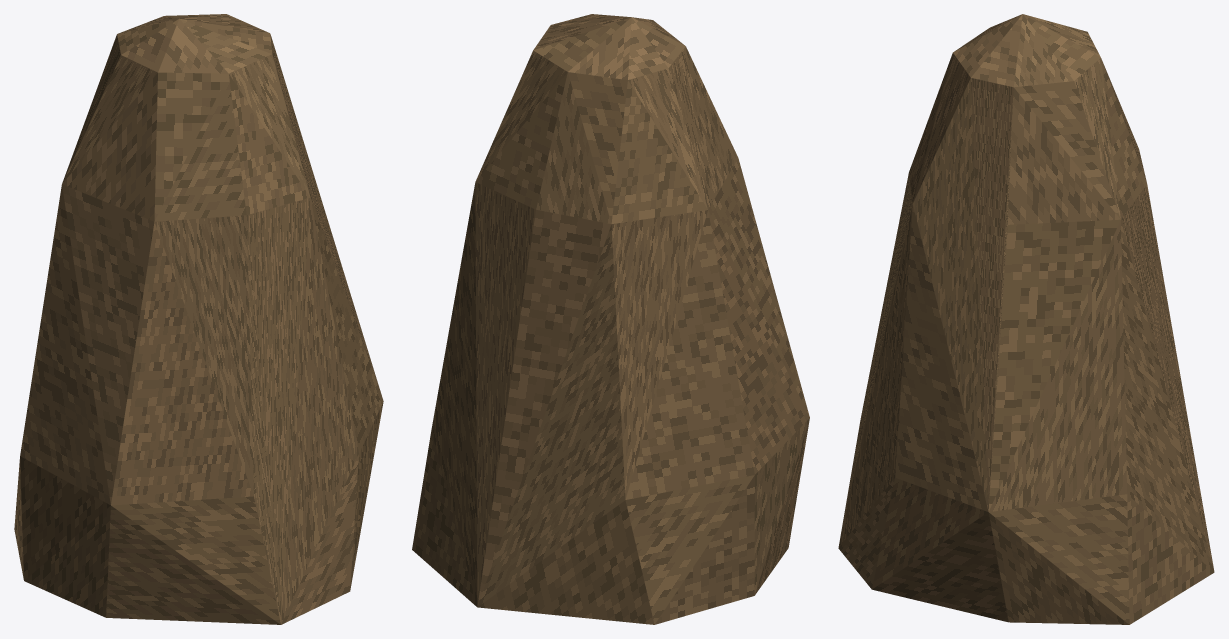
File: f_dirtmound_pile.glb
The picture shows the model from 3 angles, left to right: view 1: azimuth 30°, elevation 25°; view 2: azimuth 150°, elevation 25°; view 3: azimuth 270°, elevation 25°; orthographic projection.
Visible parts, largest first — view 1: block_heaped-earth; view 2: block_heaped-earth; view 3: block_heaped-earth.
Part boxes in pixels (x1,y1,x2,y2): block_heaped-earth: [14, 14, 383, 624]; block_heaped-earth: [412, 14, 809, 624]; block_heaped-earth: [838, 14, 1214, 624].
Size of the model in its own units: 0.8673 by 1.36 by 0.8739.
Materials: 1 (1 with a texture image).
